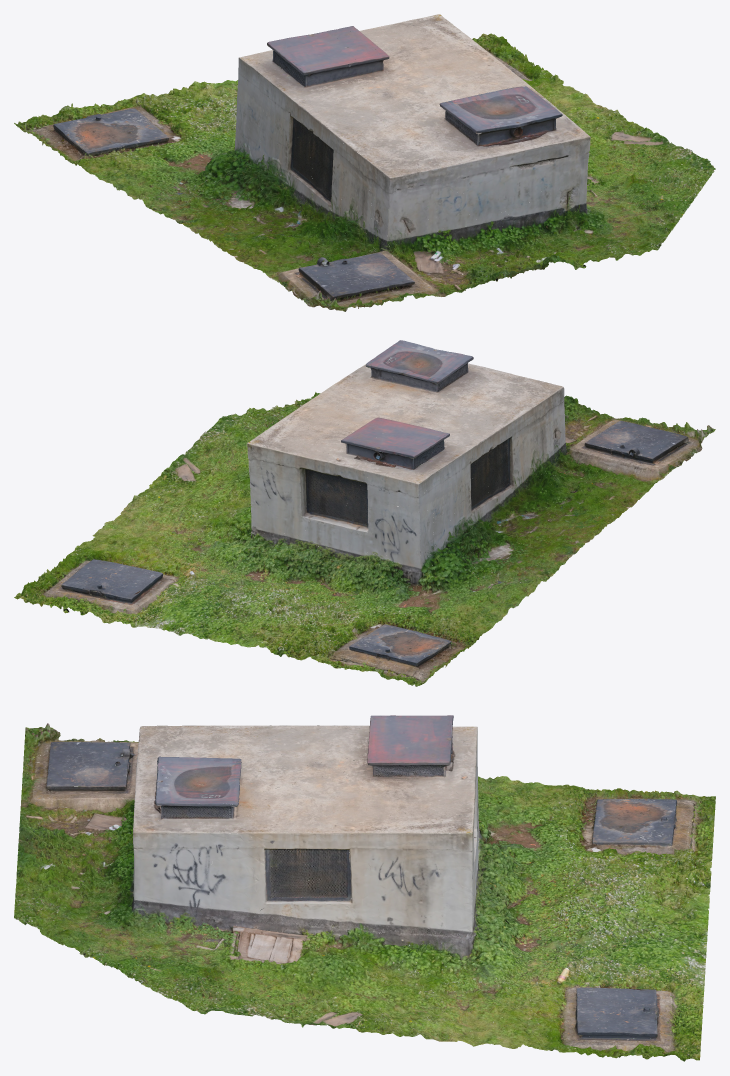
Rendered from sf-gas-pipeline-exhaust-ii-babebf.glb.
3 views of the same model, one above another, from view 1: azimuth 30°, elevation 25°; view 2: azimuth 150°, elevation 25°; view 3: azimuth 270°, elevation 25° (orthographic). The views are drawn at different scales.
Parts seen in each view (by area): view 1: Model_material2_0, Model_material0_0, Model_material1_0; view 2: Model_material2_0, Model_material1_0, Model_material0_0; view 3: Model_material1_0, Model_material0_0, Model_material2_0.
Part boxes in pixels (left/top/right/bottom): Model_material2_0: left=22, top=26, right=711, bottom=311; Model_material0_0: left=42, top=14, right=704, bottom=307; Model_material1_0: left=14, top=25, right=715, bottom=303; Model_material2_0: left=31, top=371, right=715, bottom=685; Model_material1_0: left=14, top=340, right=689, bottom=686; Model_material0_0: left=39, top=352, right=693, bottom=667; Model_material1_0: left=14, top=725, right=715, bottom=1061; Model_material0_0: left=19, top=725, right=710, bottom=1055; Model_material2_0: left=16, top=715, right=715, bottom=1059.
Size of the model in its own units: 4.88 by 1.57 by 5.78.
3 materials, 3 textured.
